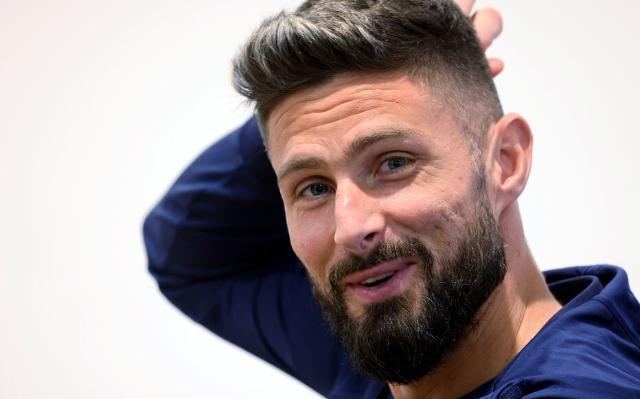crows_feet: (416, 154, 439, 186)
forehead: (364, 86, 404, 118), (313, 96, 355, 124), (278, 108, 304, 142)
